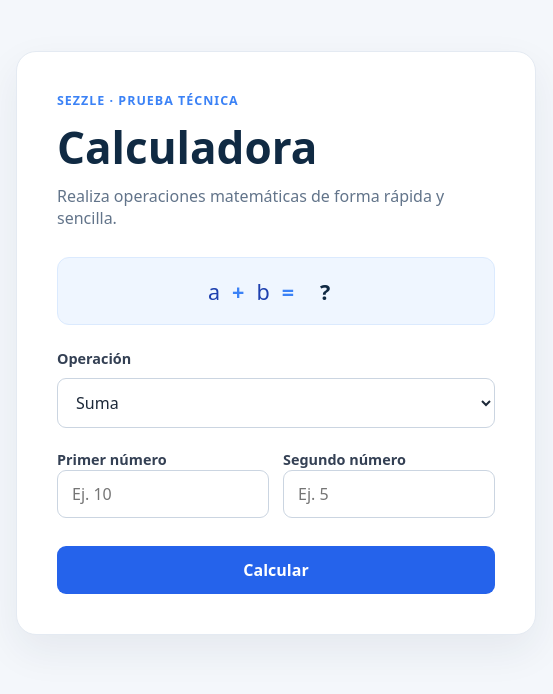
it: Calculator › shows backend errors
The image size is (553, 694).
Type "10" into the field labelled "Primer número" at x=163, y=494, box left=57, top=470, right=269, bottom=518
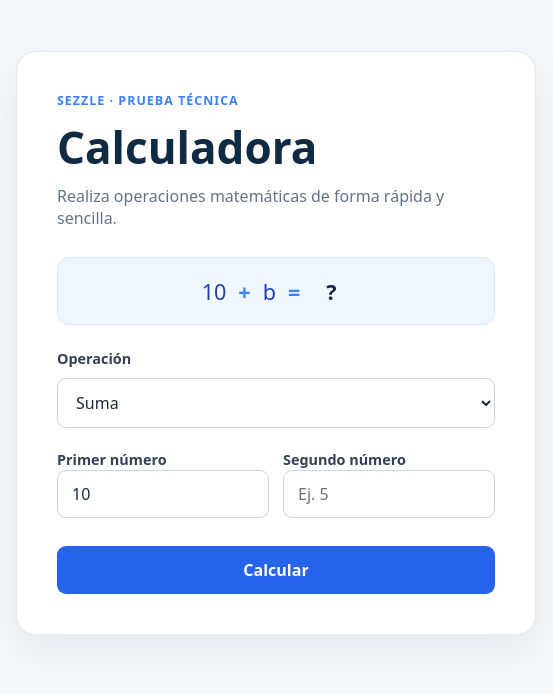
Type "2" into the field labelled "Segundo número" at x=389, y=494, box left=283, top=470, right=495, bottom=518
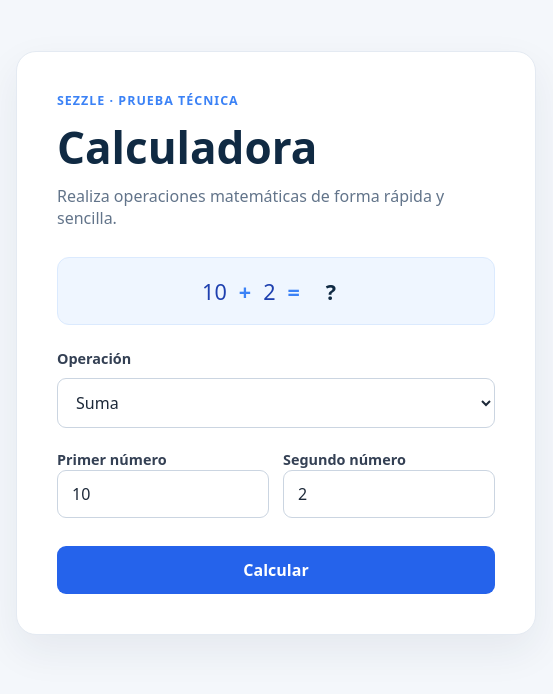
Select "Potencia" in the dropdown labelled "Operación" at x=276, y=403, box left=57, top=378, right=495, bottom=428
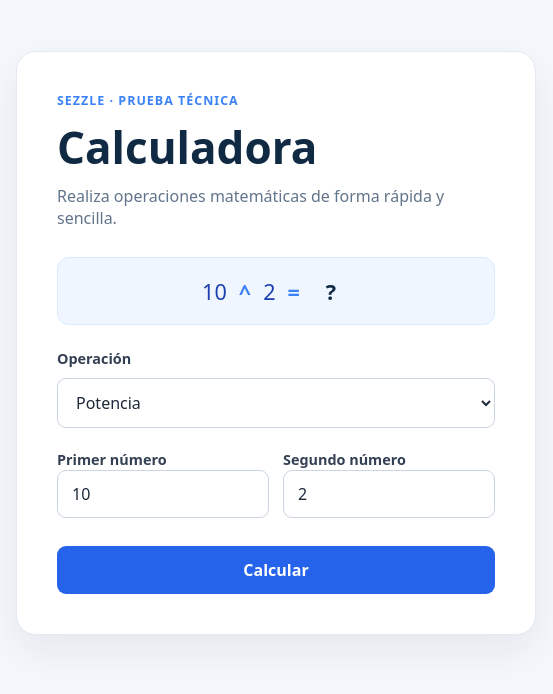
Click the button "Calcular" at x=276, y=570, box left=57, top=546, right=495, bottom=594
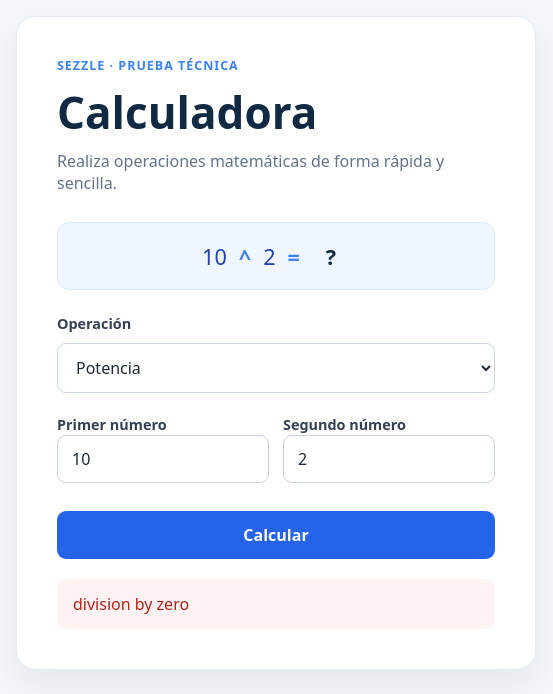
Check: the message reads "division by zero", box left=73, top=593, right=189, bottom=615
